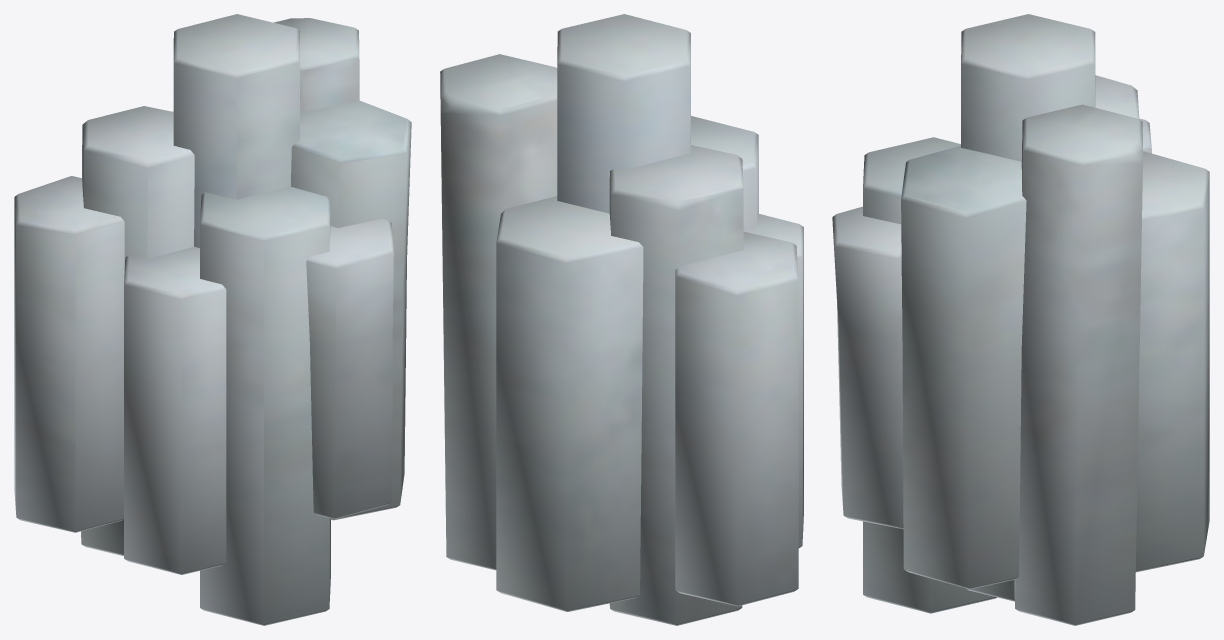
The model's file is P_RockHexic_Rocks06.obj.
The picture shows the model from 3 angles, left to right: view 1: azimuth 30°, elevation 25°; view 2: azimuth 150°, elevation 25°; view 3: azimuth 270°, elevation 25°; orthographic projection. The views are drawn at different scales.
Size of the model in its own units: 11.45 by 16.59 by 10.36.
